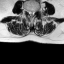CCS_normal: (30, 8, 32, 20)
LFS_stenosis: (34, 7, 37, 14)
LLS_normal: (32, 8, 34, 17)
RFS_stenosis: (26, 7, 28, 15)
RLS_normal: (28, 8, 30, 16)
